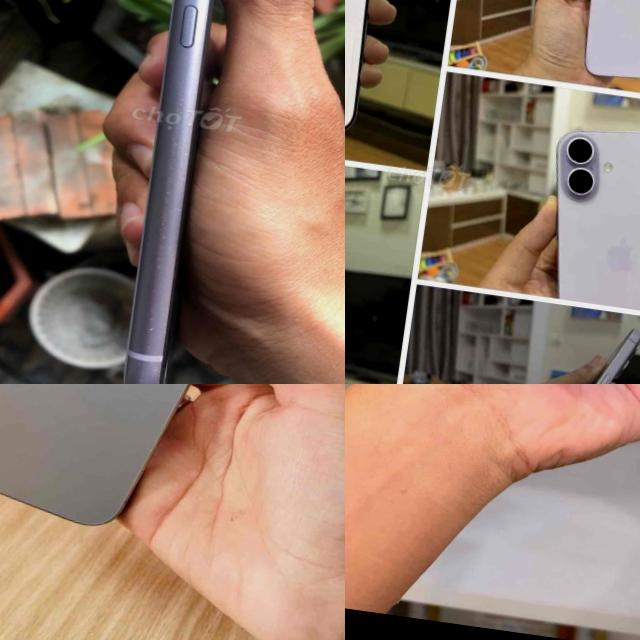gen_11: (94, 0, 268, 384)
gen_15: (0, 384, 281, 549)
